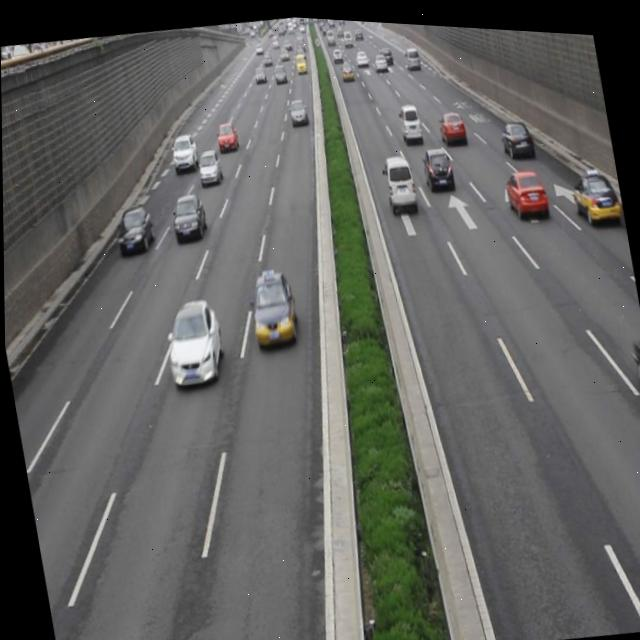car: (158, 291, 227, 391), (243, 265, 300, 347), (569, 159, 621, 219), (501, 158, 549, 217), (112, 200, 157, 258), (167, 188, 209, 244), (419, 138, 454, 189), (498, 110, 535, 156), (167, 128, 200, 172), (436, 100, 467, 143), (195, 145, 225, 187), (214, 116, 240, 153)
truck: (381, 148, 418, 209), (396, 97, 423, 142)
